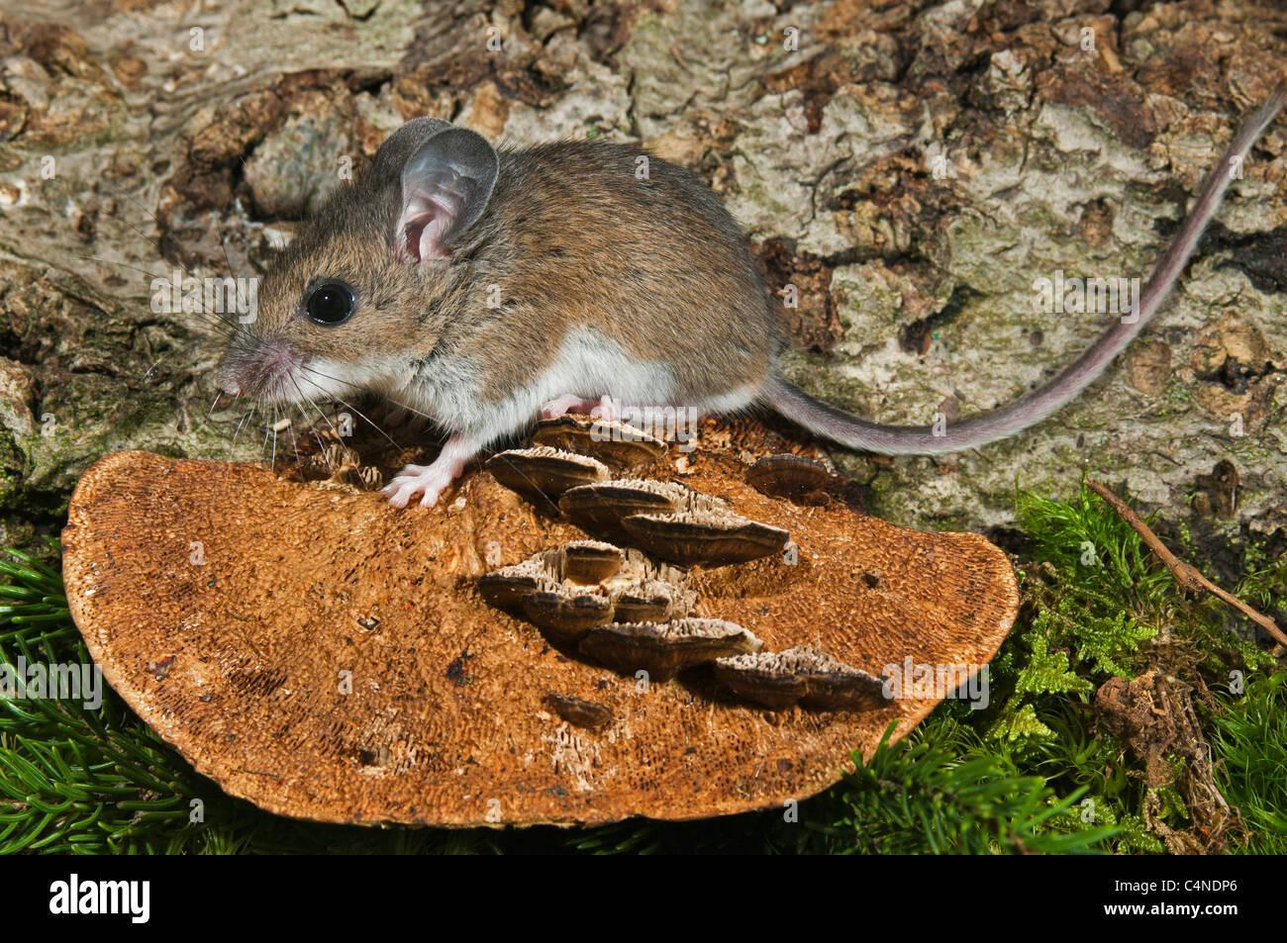rat: (214, 86, 1286, 508)
